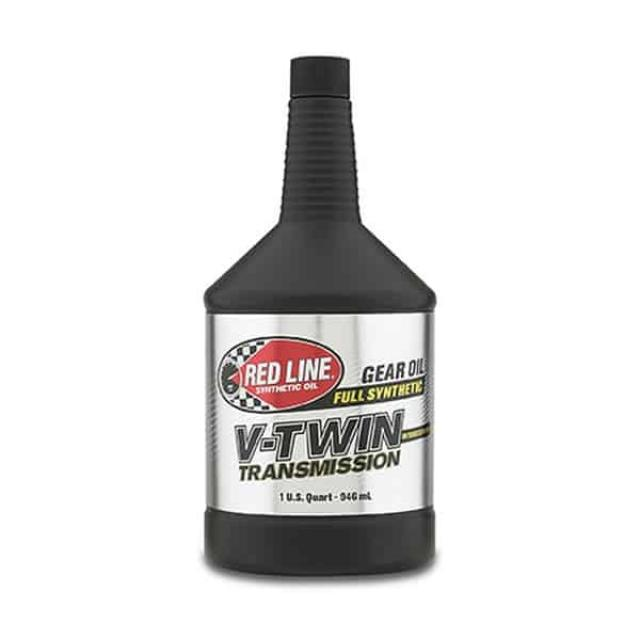-oil-: (198, 42, 438, 582)
